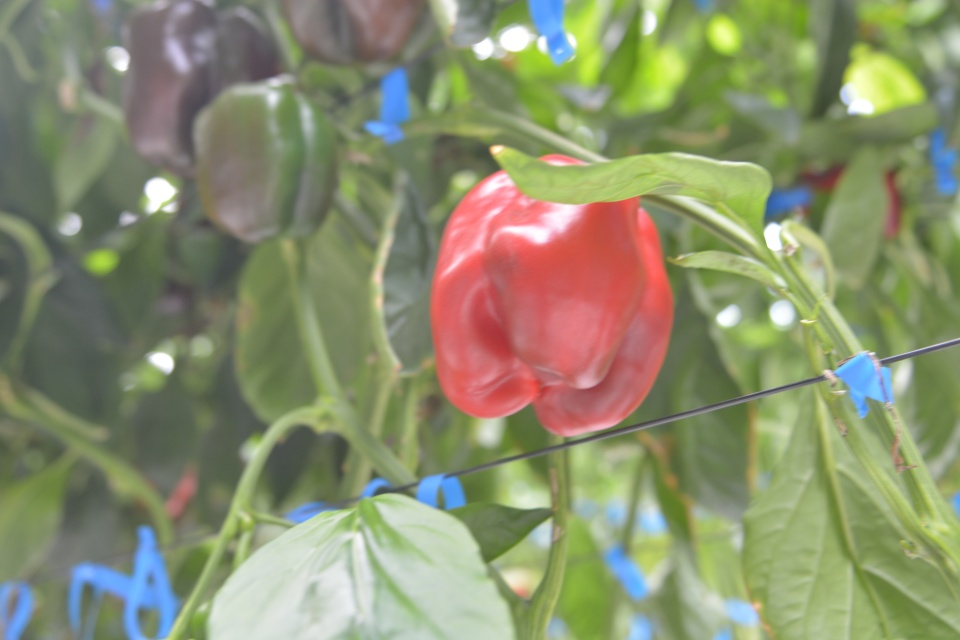fruit: (429, 153, 671, 439), (122, 1, 282, 181), (191, 71, 338, 244), (284, 0, 428, 66)
